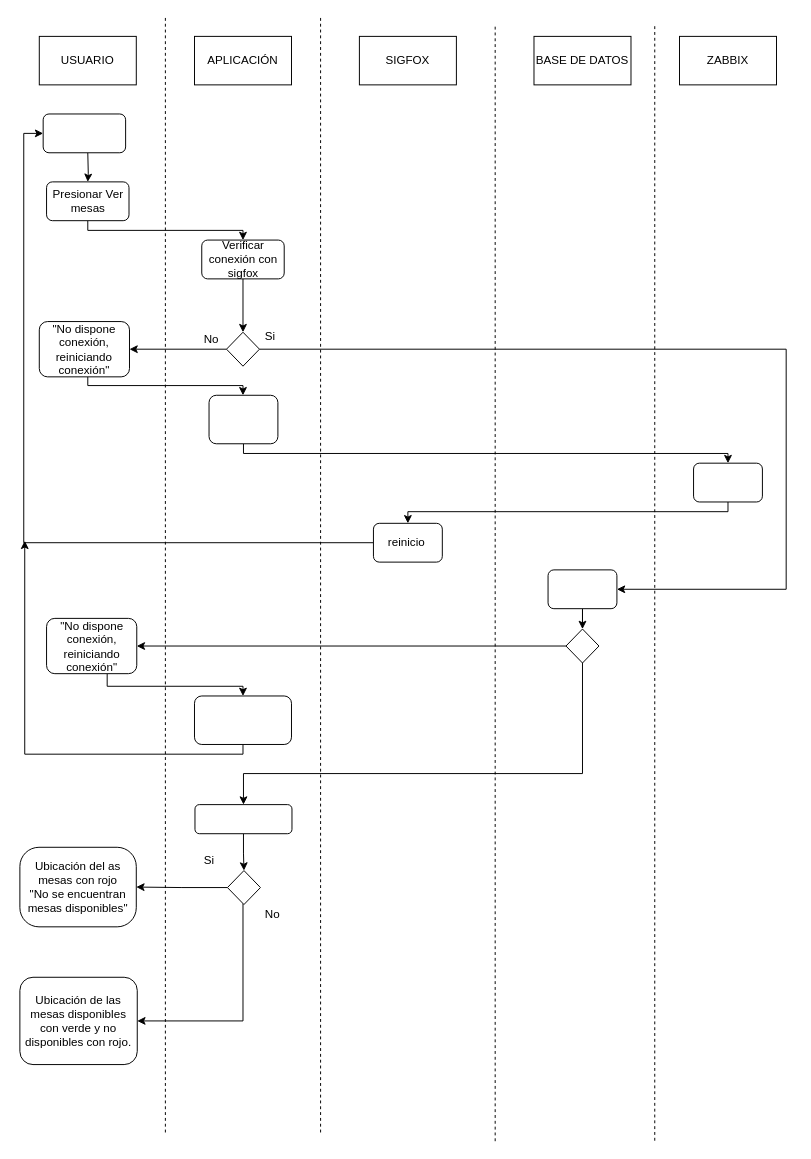
Image size: 811x1159. Some labels were removed from this diagram. The shapes that lost their labels are listed below. From the top down, each one's centre as x and y in pixels, then its label:
At [84,133]: "Menu".
At [243,419]: "Reiniciar conexión con sigfox".
At [727,482]: "reiniciar sigfox".
At [582,589]: "Verificar conexion".
At [242,719]: "Reiniciar conexión con la base de datos".
At [243,819]: "mesas vacias = 0".
